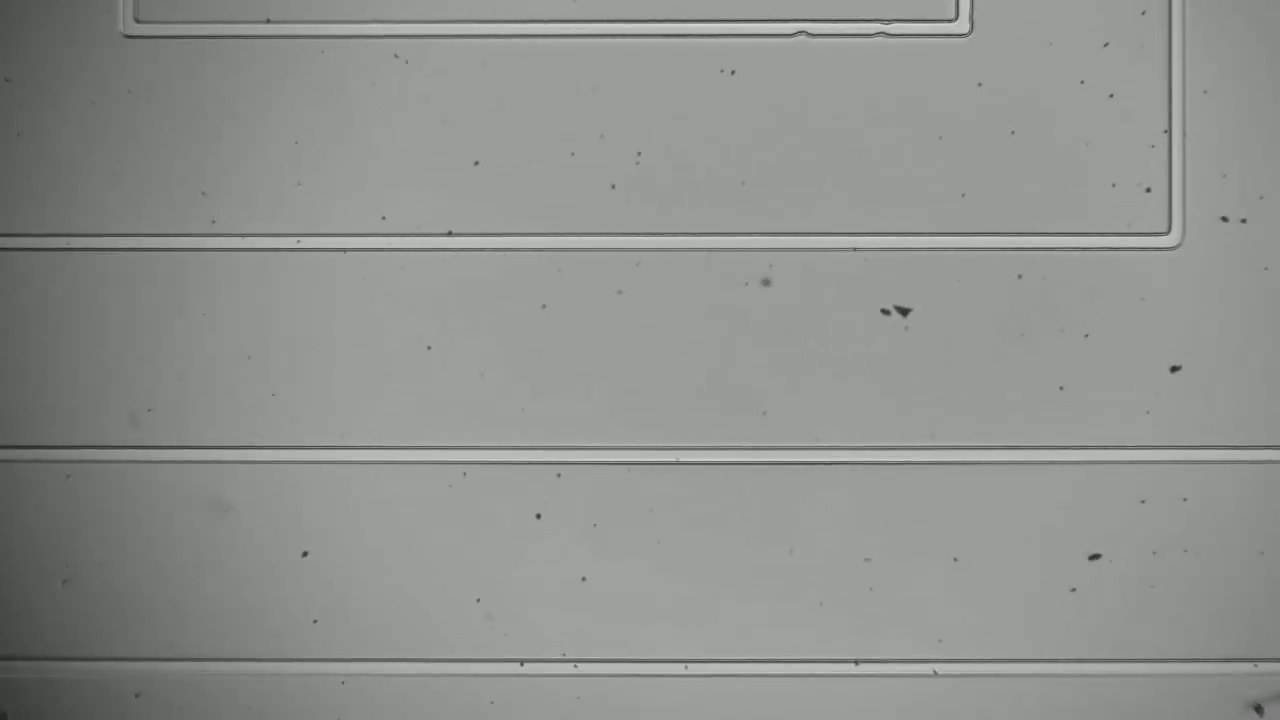edge_bite: (781, 15, 822, 47), (866, 13, 906, 44)
